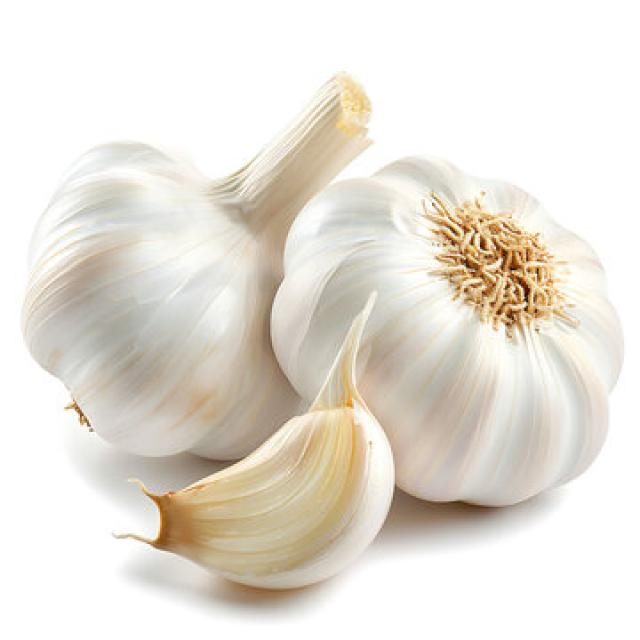Garlic: (19, 70, 373, 460), (268, 151, 624, 509), (110, 290, 397, 592)
